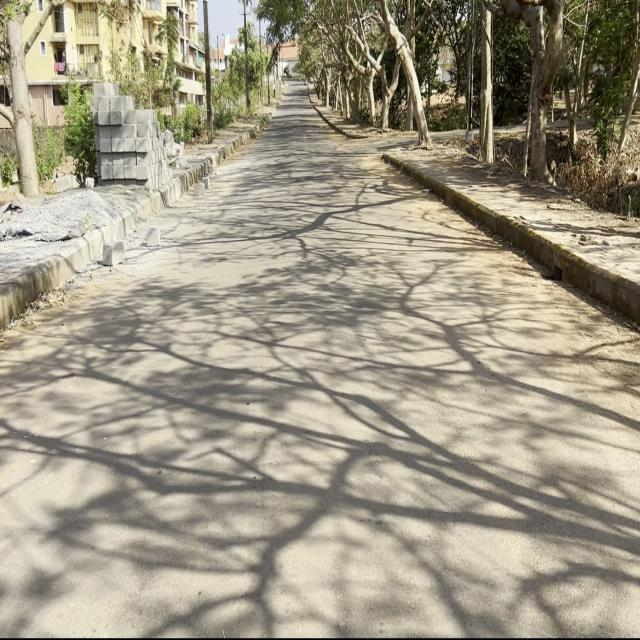Road: (0, 88, 640, 640)
